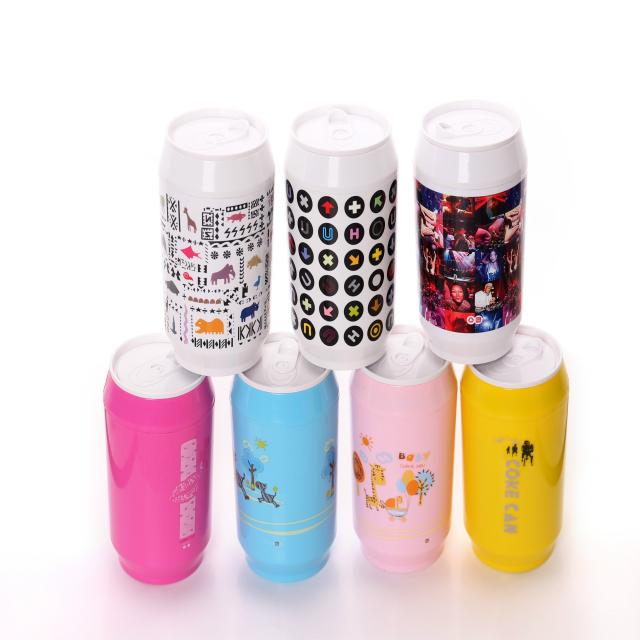can: (163, 108, 283, 380), (282, 105, 401, 375), (410, 100, 525, 368), (106, 332, 218, 586), (229, 330, 341, 584), (348, 324, 459, 574), (460, 324, 570, 574)
